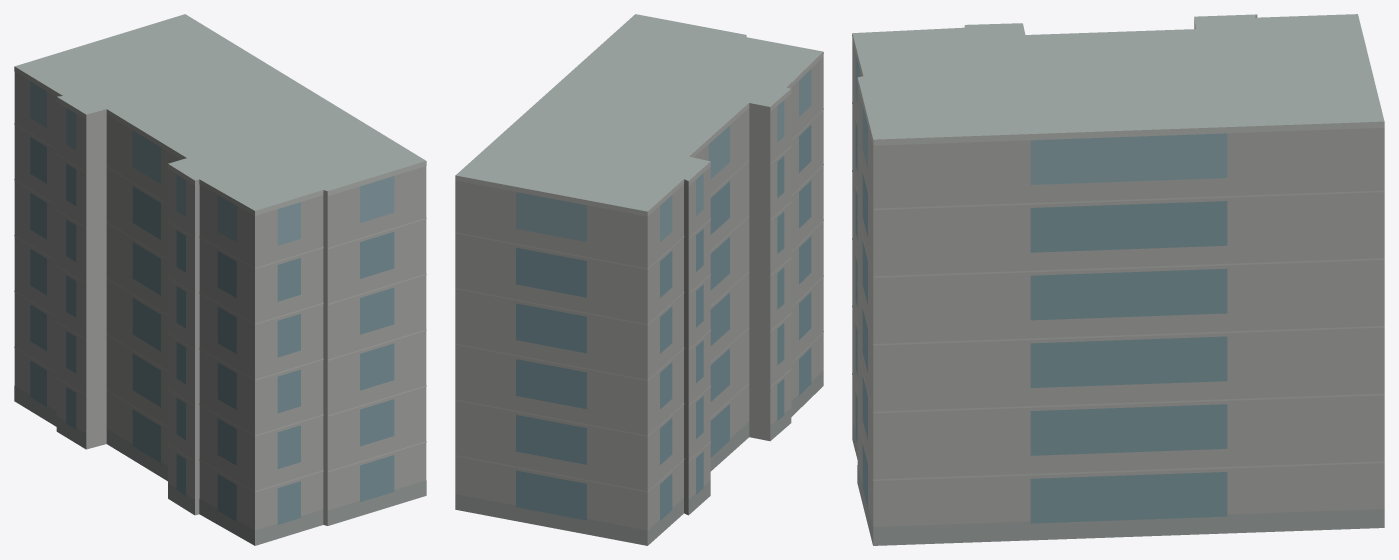
The model's file is survey-upis-32631120.glb.
3 renders of one model, left to right at view 1: azimuth 30°, elevation 25°; view 2: azimuth 150°, elevation 25°; view 3: azimuth 270°, elevation 25°, orthographic. The views are drawn at different scales.
Visible parts, largest first — view 1: survey-upis-32631120.tmp; view 2: survey-upis-32631120.tmp; view 3: survey-upis-32631120.tmp.
Part boxes in pixels (bbox=[...]): survey-upis-32631120.tmp: bbox=[14, 14, 426, 545]; survey-upis-32631120.tmp: bbox=[455, 14, 823, 545]; survey-upis-32631120.tmp: bbox=[852, 14, 1384, 545].
Bounding box in the file's own units: 10.57 × 15.9 × 18.9.
